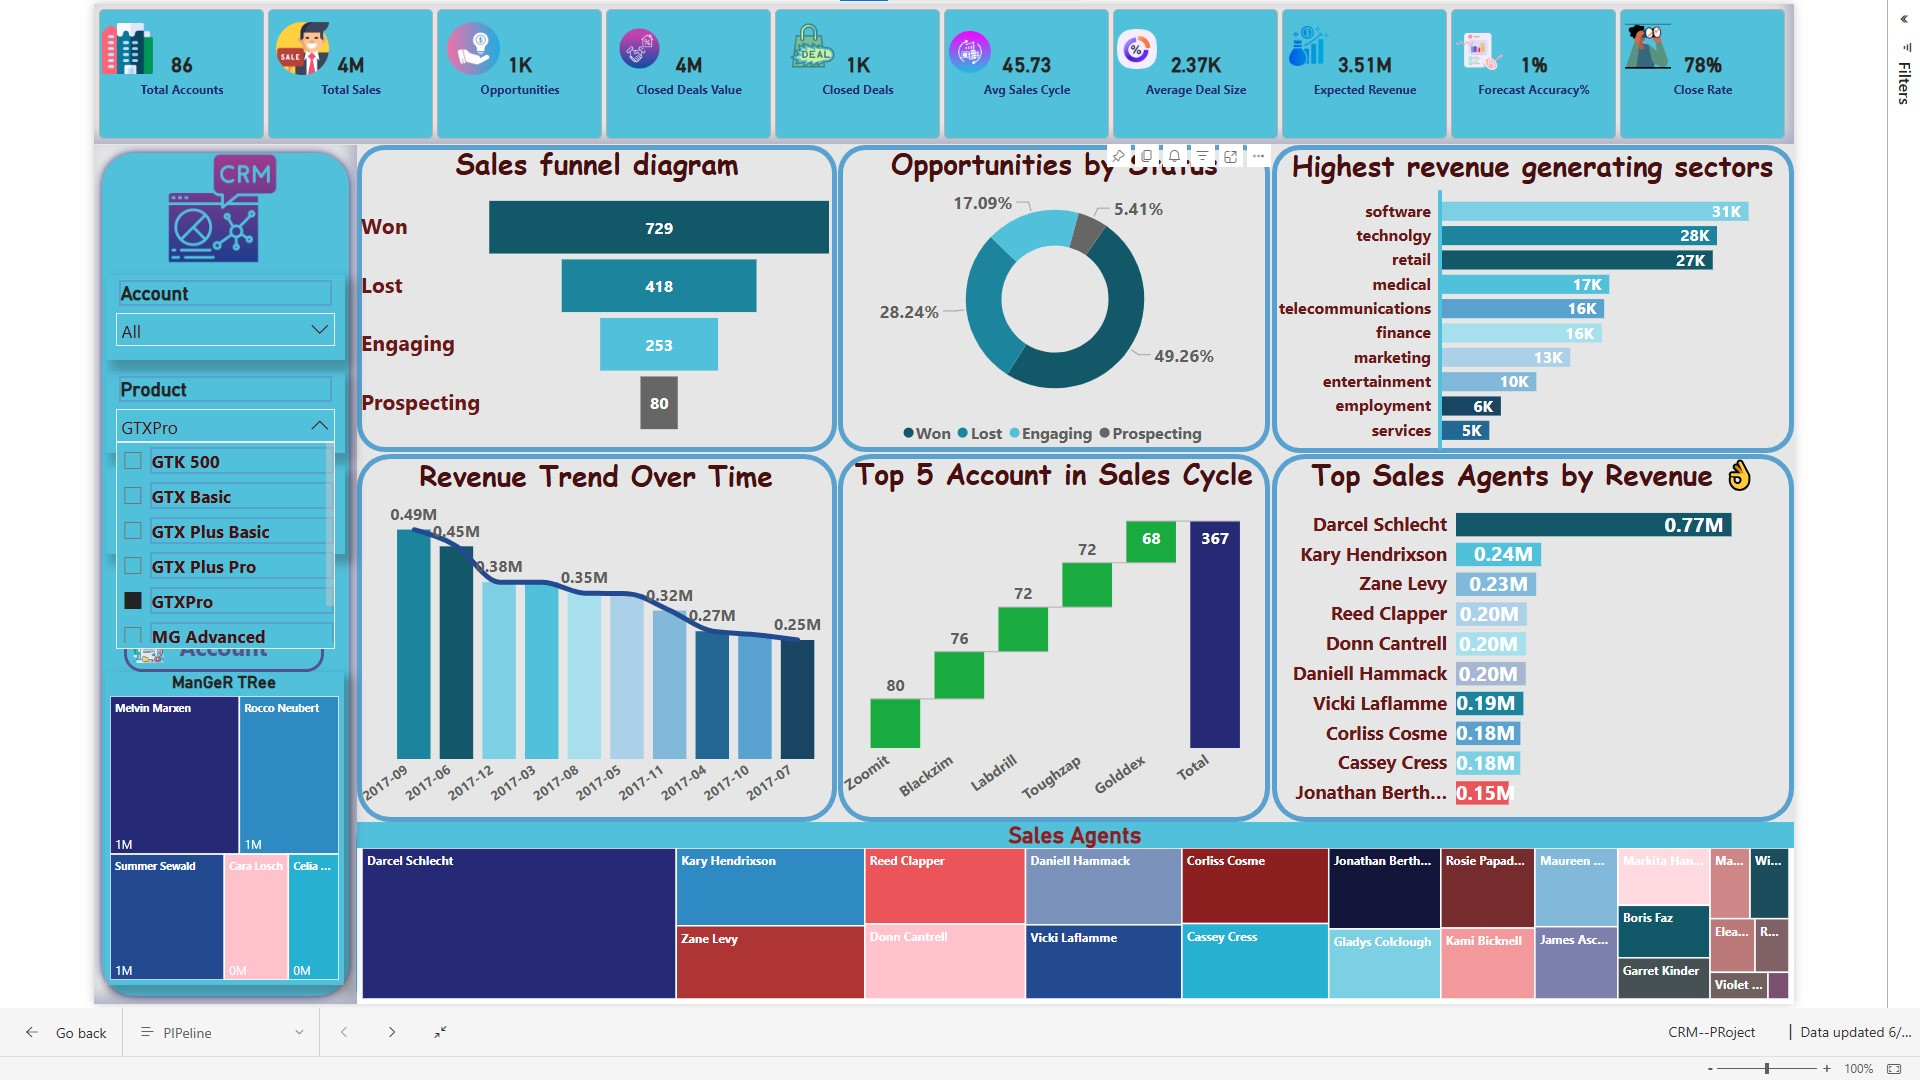

The dashboard page shown, as its layout file describes it:
{"tool":"powerbi","page":{"name":"PIPeline","canvas":[1700,1000],"ordinal":0},"visuals":[{"type":"shape","box":[0,141.5,263.4,858.5],"z":0},{"type":"shape","box":[744.3,140.9,431.6,306.8],"z":1000},{"type":"shape","box":[263.4,450,479.3,368.3],"z":2000},{"type":"shape","box":[262.8,140.9,480.1,306.8],"z":3000},{"type":"shape","box":[743.9,450,432,368.3],"z":4000},{"type":"shape","box":[1178,141.5,522,307.3],"z":5000},{"type":"shape","box":[1178,450,522,368.3],"z":6000},{"type":"shape","box":[264.2,819.2,1435.8,181.2],"z":7000},{"type":"cardVisual","fields":{"Data":["Calendar.Total Accounts","Calendar.Total Sales","Calendar.Total Opportunities","Calendar.Closed Deals Value","Calendar.Closed Deals","Calendar.Avg Sales Cycle","Calendar.Average Deal Size","Calendar.Expected Revenue","Calendar.Forecast Accuracy %","Calendar.Close Rate"]},"box":[0,0,1700,140.2],"z":8000},{"type":"funnel","title":"Sales funnel diagram","fields":{"Category":["sales_pipeline.Deal Stage"],"Y":["CountNonNull(sales_pipeline.Opportunity Id)"]},"box":[262.3,138.9,482.4,309.1],"z":9000},{"type":"barChart","title":"Highest revenue generating sectors","fields":{"Y":["Subsidiary Of.Total Revenue by Sector"],"Category":["Subsidiary Of.Sector"]},"box":[1178,141.5,522,309.8],"z":10000},{"type":"donutChart","title":"Opportunities by Status","fields":{"Category":["sales_pipeline.Deal Stage"],"Y":["CountNonNull(sales_pipeline.Opportunity Id)"]},"box":[743.9,139,434.1,309.8],"z":11000},{"type":"clusteredBarChart","title":"Top Sales Agents by Revenue 👌 ","fields":{"Category":["sales_pipeline.Sales Agent"],"Y":["Sum(sales_pipeline.Close Value)"]},"box":[1178,450,522,368.3],"z":12000},{"type":"lineStackedColumnComboChart","title":"Revenue Trend Over Time","fields":{"Category":["sales_pipeline.Close-Month"],"Y":["Calendar.Closed Deals Value"],"Y2":["Calendar.Total Sales"]},"box":[262.3,451.1,480.8,366.9],"z":13000},{"type":"waterfallChart","title":"Top 5 Account in Sales Cycle","fields":{"Category":["sales_pipeline.Account"],"Y":["Calendar.Avg Sales Cycle"]},"box":[742.7,448.8,435.4,369.5],"z":14000},{"type":"shape","box":[262.3,818,1437.7,182.6],"z":15000},{"type":"treemap","title":"Sales Agents","fields":{"Group":["sales_pipeline.Sales Agent"],"Values":["Sum(sales_pipeline.Close Value)"]},"box":[262.8,817.7,1437.2,182],"z":16000},{"type":"slicer","fields":{"Values":["sales_pipeline.Account"]},"box":[12.2,271.1,239.3,85.1],"z":17000},{"type":"slicer","fields":{"Values":["sales_pipeline.Product"]},"box":[12.2,366.6,239.3,82.2],"z":18000},{"type":"slicer","fields":{"Values":["Subsidiary Of.Office Location"]},"box":[12.2,462,239.3,88.1],"z":19000},{"type":"actionButton","box":[30.5,559.5,200,50],"z":21000},{"type":"actionButton","box":[30.5,618.1,200,50],"z":22000},{"type":"treemap","title":"ManGeR TRee","fields":{"Group":["sales_teams.Manager"],"Values":["Sum(sales_pipeline.Close Value)"]},"box":[10.7,668,239.6,313.2],"z":23000},{"type":"image","box":[10.4,138,240.3,130.5],"z":23001},{"type":"image","box":[3,3,60.8,81.6],"z":23002},{"type":"image","box":[172.1,13.4,72.7,62.3],"z":23003},{"type":"image","box":[344.2,13.4,71.2,62.3],"z":23004},{"type":"image","box":[510.3,19.3,71.2,50.4],"z":23005},{"type":"image","box":[676.4,13.4,86,56.4],"z":23006},{"type":"image","box":[850,19.3,51.9,56.4],"z":23007},{"type":"image","box":[1017.6,13.4,50.4,62.3],"z":23008},{"type":"image","box":[1189.7,13.4,50.4,56.4],"z":23009},{"type":"image","box":[1357.3,19.3,56.4,56.4],"z":23010},{"type":"image","box":[1525.8,12.8,56.4,57.6],"z":23011}]}

Visuals, with their boxes on the page's 1700x1000 design canvas (x1, y1, x2, y2). These are canvas units, not pixel positions in the 1920x1080 screenshot, which may show the page scaled, cropped or inside an application window:
shape: bbox(0, 142, 263, 1000)
shape: bbox(744, 141, 1176, 448)
shape: bbox(263, 450, 743, 818)
shape: bbox(263, 141, 743, 448)
shape: bbox(744, 450, 1176, 818)
shape: bbox(1178, 142, 1700, 449)
shape: bbox(1178, 450, 1700, 818)
shape: bbox(264, 819, 1700, 1000)
cardVisual - Calendar.Total Accounts x Calendar.Total Sales: bbox(0, 0, 1700, 140)
"Sales funnel diagram" funnel: bbox(262, 139, 745, 448)
"Highest revenue generating sectors" barChart: bbox(1178, 142, 1700, 451)
"Opportunities by Status" donutChart: bbox(744, 139, 1178, 449)
"Top Sales Agents by Revenue 👌 " clusteredBarChart: bbox(1178, 450, 1700, 818)
"Revenue Trend Over Time" lineStackedColumnComboChart: bbox(262, 451, 743, 818)
"Top 5 Account in Sales Cycle" waterfallChart: bbox(743, 449, 1178, 818)
shape: bbox(262, 818, 1700, 1001)
"Sales Agents" treemap: bbox(263, 818, 1700, 1000)
slicer - sales_pipeline.Account: bbox(12, 271, 252, 356)
slicer - sales_pipeline.Product: bbox(12, 367, 252, 449)
slicer - Subsidiary Of.Office Location: bbox(12, 462, 252, 550)
actionButton: bbox(30, 560, 230, 610)
actionButton: bbox(30, 618, 230, 668)
"ManGeR TRee" treemap: bbox(11, 668, 250, 981)
image: bbox(10, 138, 251, 268)
image: bbox(3, 3, 64, 85)
image: bbox(172, 13, 245, 76)
image: bbox(344, 13, 415, 76)
image: bbox(510, 19, 582, 70)
image: bbox(676, 13, 762, 70)
image: bbox(850, 19, 902, 76)
image: bbox(1018, 13, 1068, 76)
image: bbox(1190, 13, 1240, 70)
image: bbox(1357, 19, 1414, 76)
image: bbox(1526, 13, 1582, 70)
